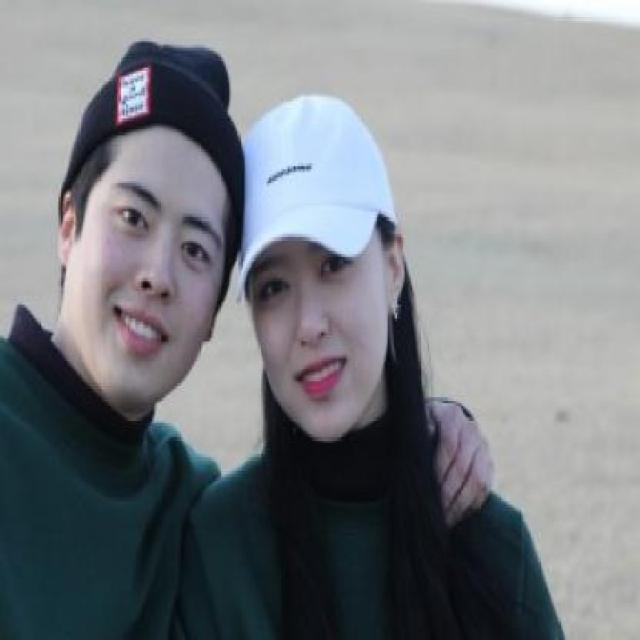hat: (60, 39, 246, 219), (235, 98, 398, 298)
